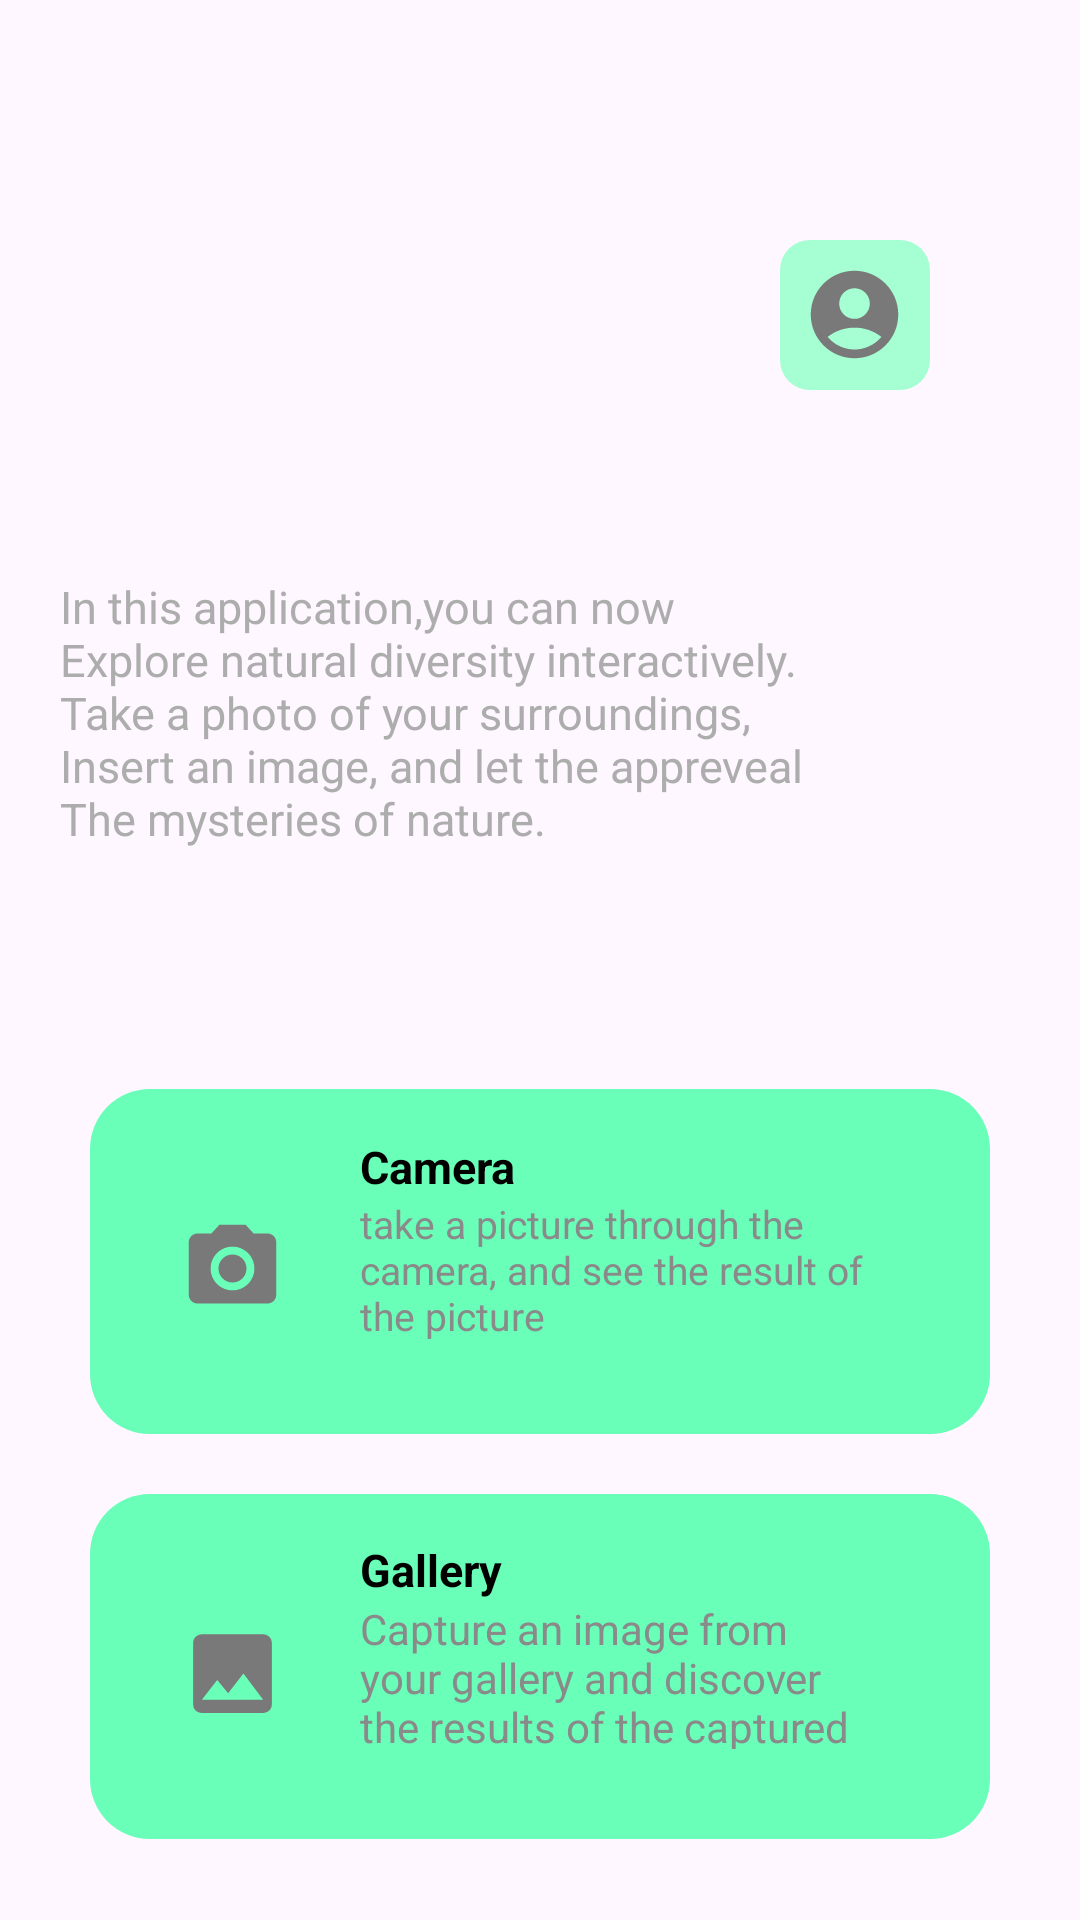

Where icons sit on this 1080 × 1920 app screen, as (x1=x1, y1=y1, x2=x2, y2=y2):
account: (x1=810, y1=270, x2=899, y2=359)
